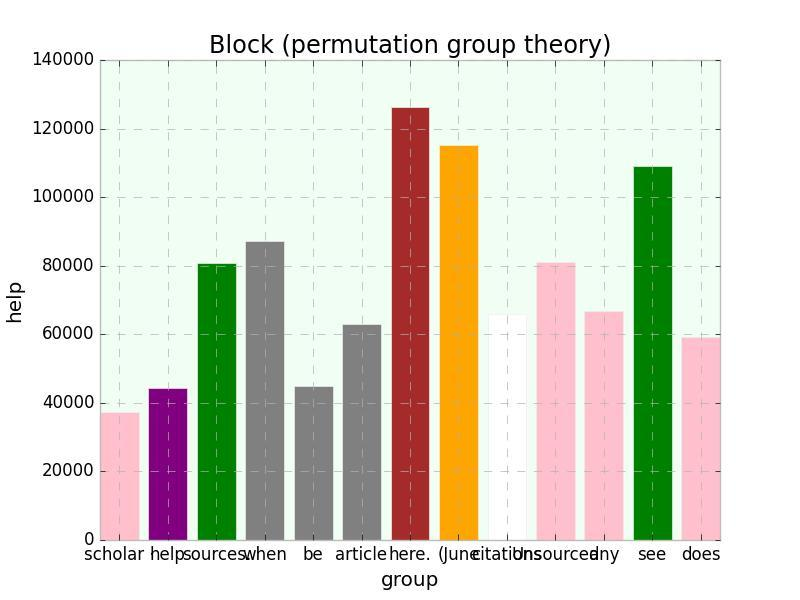axis: (4, 52, 94, 548)
rectangle: (390, 107, 430, 540), (439, 145, 478, 540), (632, 166, 672, 540), (245, 241, 284, 540), (536, 262, 575, 540), (197, 263, 236, 540), (584, 311, 624, 540), (488, 314, 526, 540), (342, 324, 381, 540), (681, 337, 720, 540), (148, 388, 188, 540), (294, 386, 332, 540), (100, 412, 139, 540)
